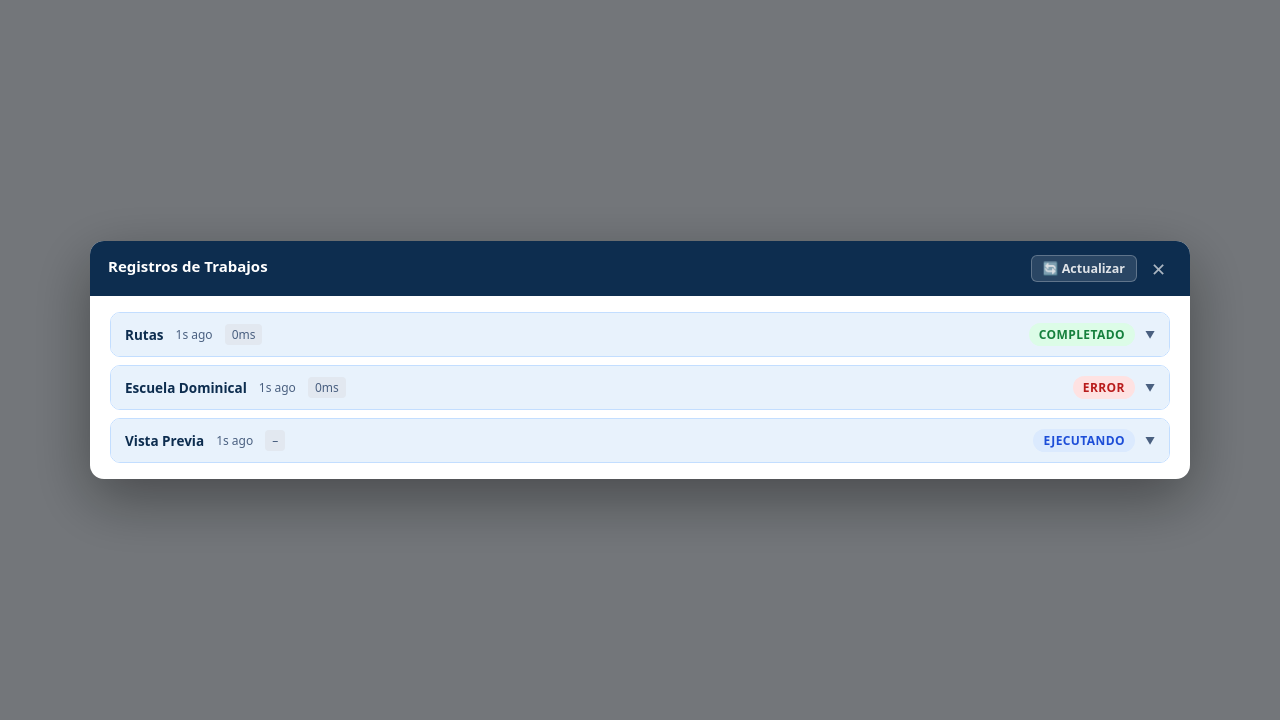
LogsModal › collapses output when the same card is clicked again
Check: the text "Rutas" is shown, box [125,326,164,344]
What coordinates should you click on to do the following:
click the button "Rutas 1s ago 0ms Completado ▼"
I would click on:
 (144, 334)
Its box is [111,313,1169,356].
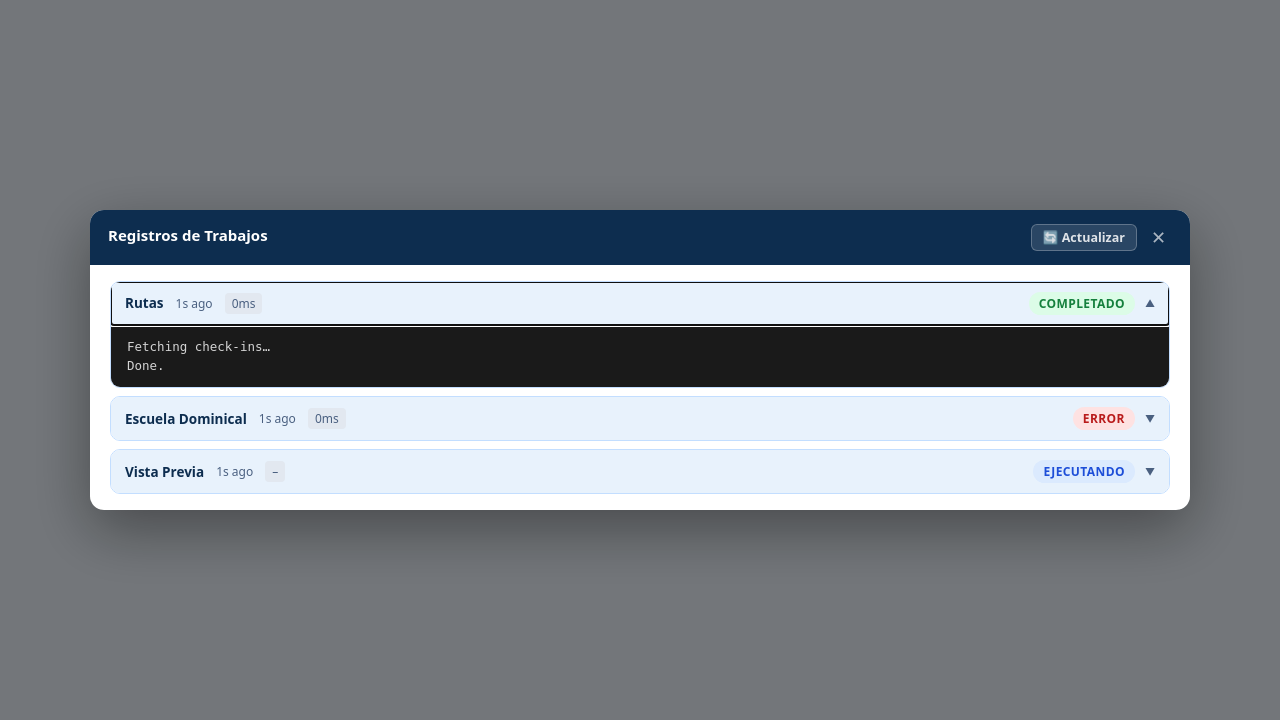
Check: the text "Fetching check-ins…" is shown, box [127,339,270,354]
What coordinates should you click on to do the following:
click the button "Rutas 1s ago 0ms Completado ▲"
I would click on:
 (144, 303)
Its box is [111,282,1169,325].
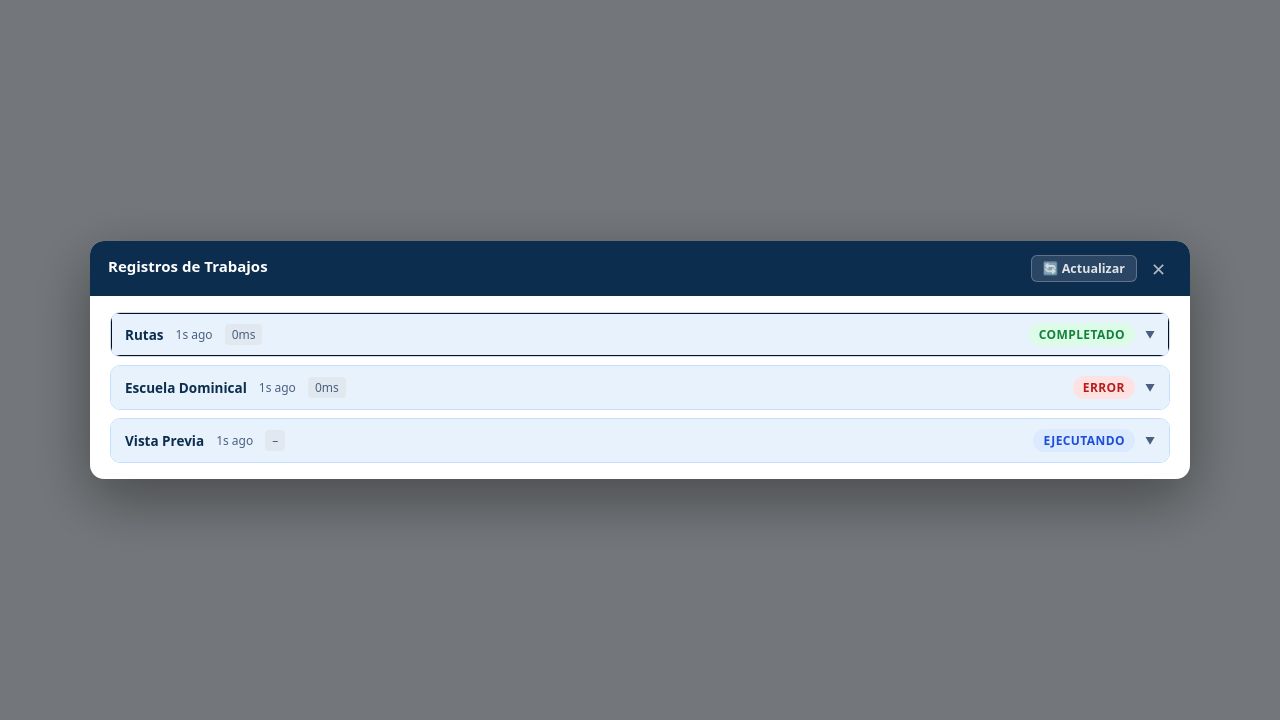
Check: the text "Fetching check-ins…" is gone
